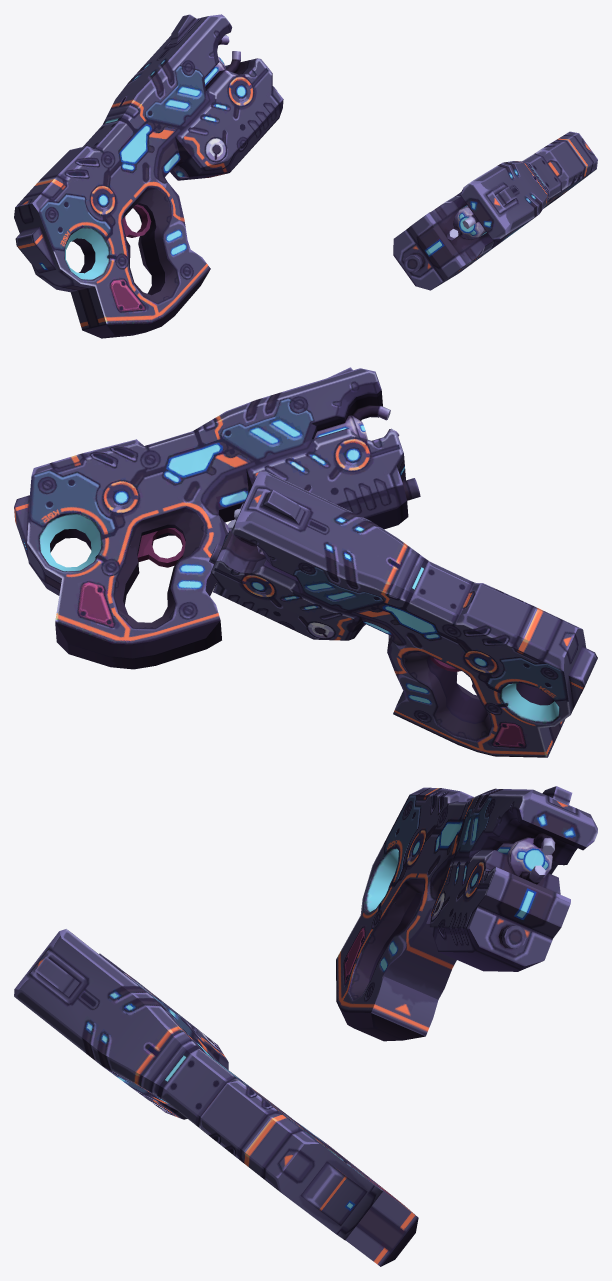
Rendered from Weapon_Pistol_K6_11_5.fbx.
The picture shows the model from 3 angles, top to bottom: view 1: azimuth 30°, elevation 25°; view 2: azimuth 150°, elevation 25°; view 3: azimuth 270°, elevation 25°; orthographic projection. The views are drawn at different scales.
Parts seen in each view (by area): view 1: RightPistol, LeftPistol; view 2: LeftPistol, RightPistol; view 3: RightPistol, LeftPistol.
Boxes of the visible parts, x1,y1,x2,y2 form: RightPistol: (14,14,283,338); LeftPistol: (393,131,597,290); LeftPistol: (14,367,420,669); RightPistol: (209,471,597,757); RightPistol: (336,786,597,1041); LeftPistol: (14,929,418,1266).
Size of the model in its own units: 0.4383 by 0.2004 by 0.3145.
Materials: 1 (1 with a texture image).
